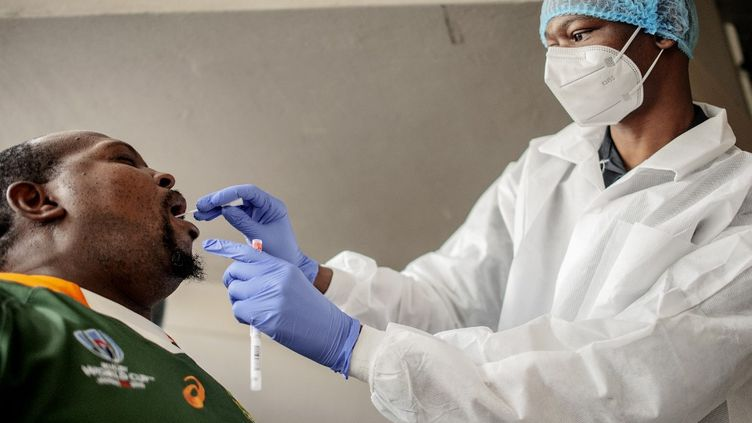with_mask: (548, 18, 647, 106)
without_mask: (18, 147, 175, 295)
